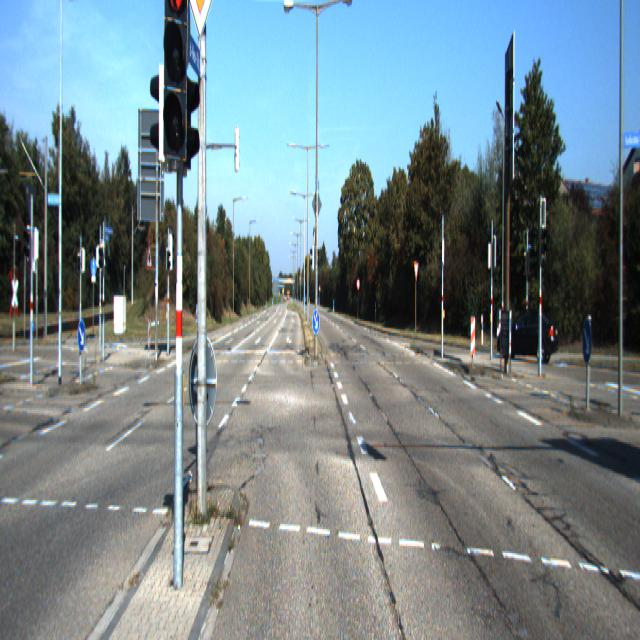Car: (496, 303, 557, 368)
